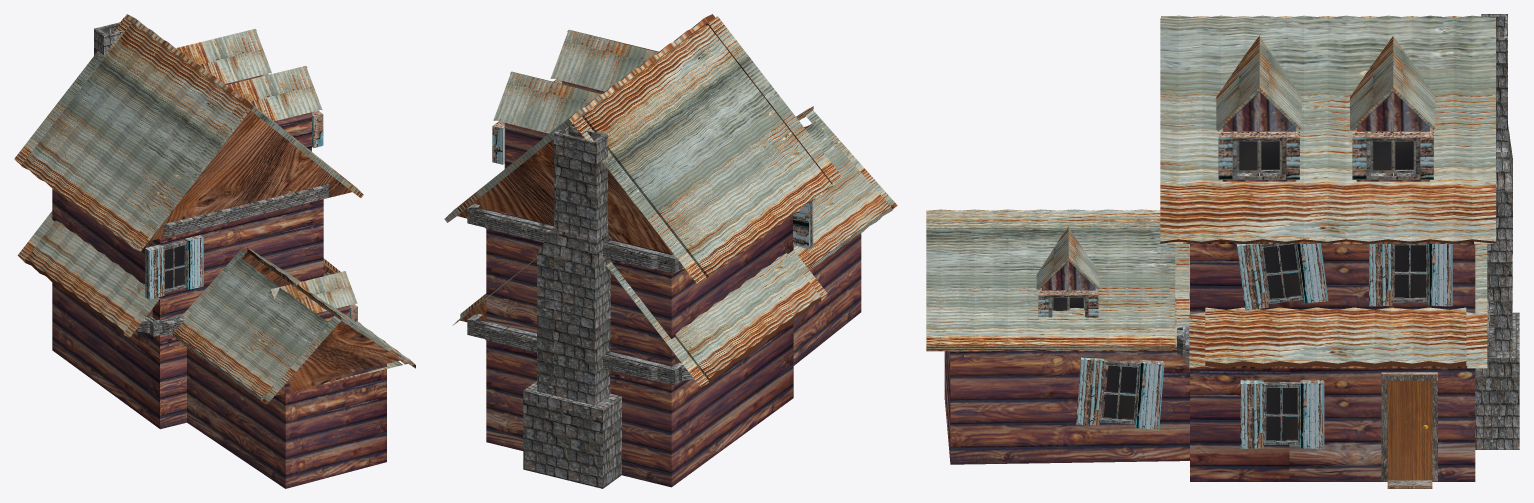
The model's file is house2.fbx.
3 views of the same model, side by side, from view 1: azimuth 30°, elevation 25°; view 2: azimuth 150°, elevation 25°; view 3: azimuth 270°, elevation 25° (orthographic). The views are drawn at different scales.
Parts seen in each view (by area): view 1: Roof.002, Roof.003, Housebase, housebase, housebase.001, Roof.001, Corbal, Corbal.001, Window.004, Stonefringe, Corbal.002, Stonefringe.001 (+1 smaller); view 2: Roof.002, Chimney, housebase.001, housebase, Roof.001, Roof.003, Corbal.001, Housebase, Corbal, Stonefringe, Stonefringe.001, Window.004; view 3: Roof.002, Roof.003, Housebase, housebase.001, Roof.001, Chimney, Corbal, Corbal.001, housebase, Door, Window.003, Window (+4 smaller).
Boxes of the visible parts, box(x1,y1,x2,y2) form: Roof.002: box(14, 14, 363, 251); Roof.003: box(171, 246, 415, 404); Housebase: box(187, 347, 386, 488); housebase: box(52, 189, 323, 320); housebase.001: box(52, 283, 186, 429); Roof.001: box(17, 211, 340, 337); Corbal: box(205, 66, 323, 151); Corbal.001: box(154, 29, 271, 84); Window.004: box(145, 235, 203, 299); Stonefringe: box(163, 184, 328, 236); Corbal.002: box(268, 271, 357, 323); Stonefringe.001: box(136, 272, 330, 336); Roof.002: box(444, 14, 842, 283); Chimney: box(523, 125, 621, 488); housebase.001: box(486, 320, 793, 487); housebase: box(486, 208, 793, 366); Roof.001: box(452, 250, 827, 387); Roof.003: box(793, 106, 897, 270); Corbal.001: box(492, 71, 625, 168); Housebase: box(793, 233, 861, 365); Corbal: box(550, 30, 683, 93); Stonefringe: box(467, 204, 684, 273); Stonefringe.001: box(467, 313, 693, 385); Window.004: box(793, 200, 813, 249); Roof.002: box(1160, 15, 1496, 243); Roof.003: box(926, 209, 1189, 351); Housebase: box(944, 350, 1189, 464); housebase.001: box(1190, 368, 1475, 481); Roof.001: box(1189, 244, 1487, 368); Chimney: box(1475, 14, 1519, 449); Corbal: box(1216, 35, 1301, 181); Corbal.001: box(1350, 36, 1435, 181); housebase: box(1190, 244, 1475, 314); Door: box(1381, 372, 1438, 488); Window.003: box(1240, 380, 1324, 448); Window: box(1076, 357, 1164, 430).
Bounding box in the file's own units: 1891 × 2511 × 3258.
